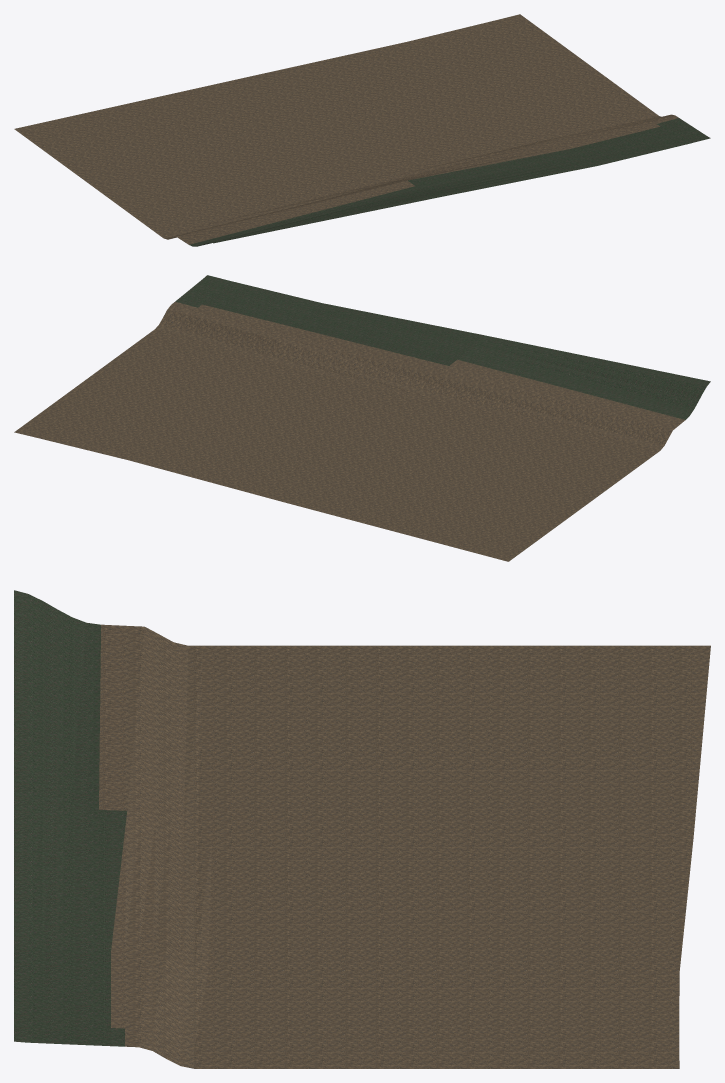
Rendered from level_camp_west_green.glb.
3 renders of one model, top to bottom at view 1: azimuth 30°, elevation 25°; view 2: azimuth 150°, elevation 25°; view 3: azimuth 270°, elevation 25°, orthographic. The views are drawn at different scales.
Parts seen in each view (by area): view 1: level_camp_west_green; view 2: level_camp_west_green; view 3: level_camp_west_green.
Boxes of the visible parts, box(x1,y1,x2,y2) form: level_camp_west_green: box(14, 14, 710, 246); level_camp_west_green: box(14, 275, 710, 561); level_camp_west_green: box(14, 590, 710, 1068).
Size of the model in its own units: 66 by 4.06 by 45.94.
2 materials, 2 textured.
